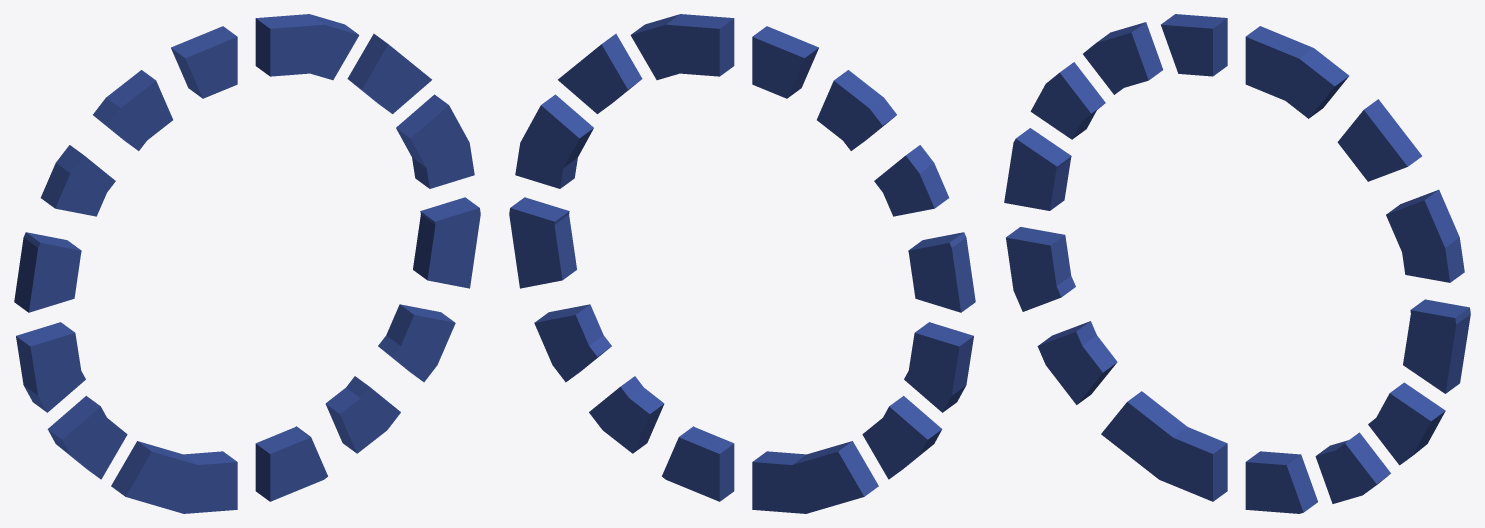
The model's file is tinker.obj.
3 renders of one model, left to right at view 1: azimuth 30°, elevation 25°; view 2: azimuth 150°, elevation 25°; view 3: azimuth 330°, elevation 25°, orthographic.
Parts seen in each view (by area): view 1: obj_0; view 2: obj_0; view 3: obj_0.
Boxes of the visible parts, left/top/right/bottom form: obj_0: left=14, top=14, right=480, bottom=513; obj_0: left=509, top=14, right=975, bottom=513; obj_0: left=1004, top=14, right=1470, bottom=513.
Bounding box in the file's own units: 50 × 50 × 2.8.
